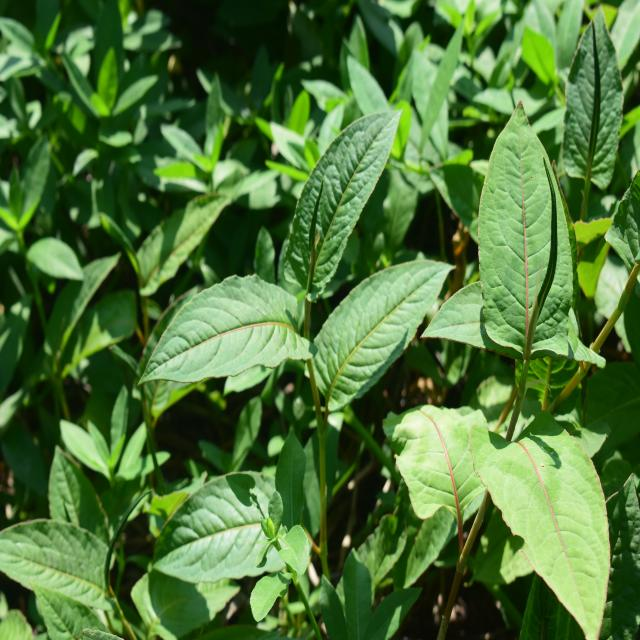Chinese_knotweed: (459, 108, 620, 630), (167, 119, 422, 406)
